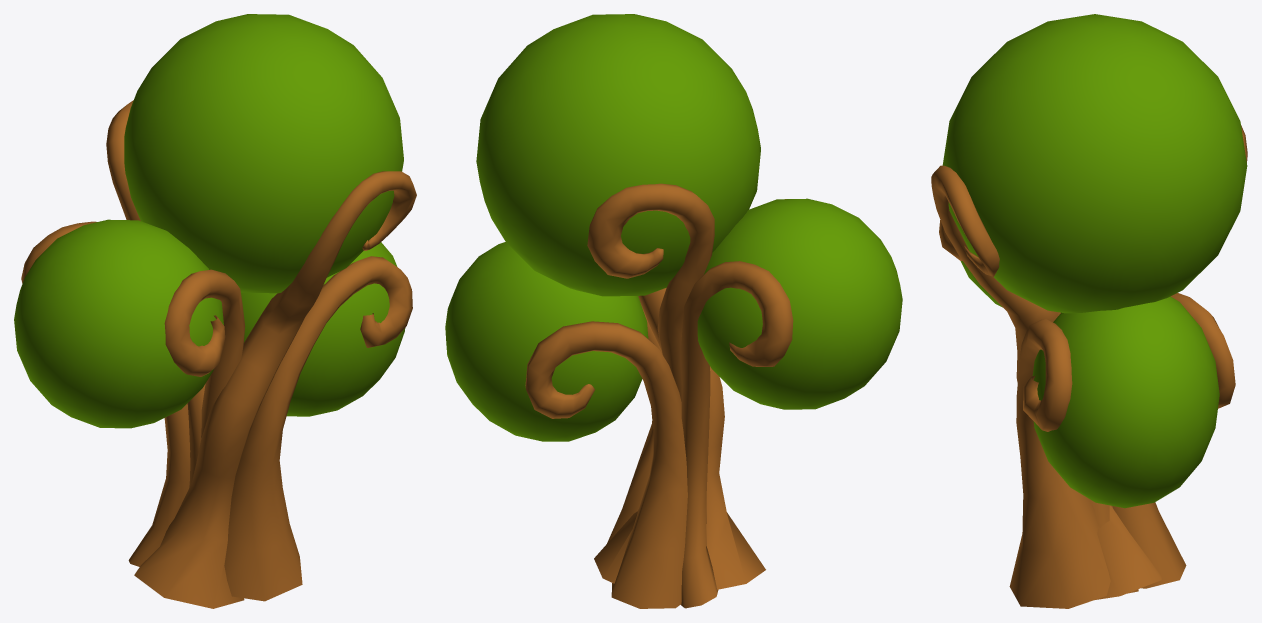
The model's file is tree_01.FBX.
3 renders of one model, left to right at view 1: azimuth 30°, elevation 25°; view 2: azimuth 150°, elevation 25°; view 3: azimuth 270°, elevation 25°, orthographic. The views are drawn at different scales.
Parts seen in each view (by area): view 1: tree_01; view 2: tree_01; view 3: tree_01.
Part boxes in pixels (box(x1,y1,x2,y2)): tree_01: box(14, 14, 416, 608); tree_01: box(445, 14, 902, 608); tree_01: box(931, 14, 1247, 608).
Size of the model in its own units: 481 by 631 by 306.
